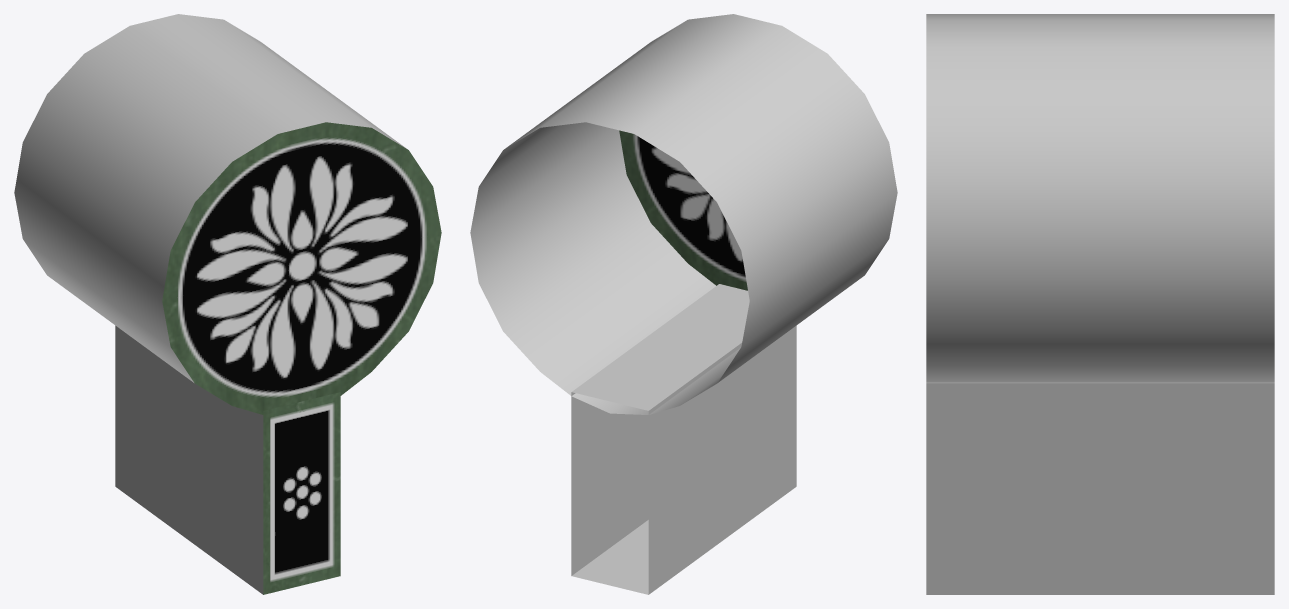
The model's file is SM_BeamCap02A.fbx.
The picture shows the model from 3 angles, left to right: view 1: azimuth 30°, elevation 25°; view 2: azimuth 150°, elevation 25°; view 3: azimuth 270°, elevation 25°; orthographic projection. The views are drawn at different scales.
Visible parts, largest first — view 1: SM_BeamCap02A; view 2: SM_BeamCap02A; view 3: SM_BeamCap02A.
Boxes of the visible parts, left/top/right/bottom form: SM_BeamCap02A: left=14, top=14, right=441, bottom=594; SM_BeamCap02A: left=470, top=14, right=897, bottom=594; SM_BeamCap02A: left=926, top=14, right=1274, bottom=594.
Size of the model in its own units: 28.53 by 26.14 by 44.62.
